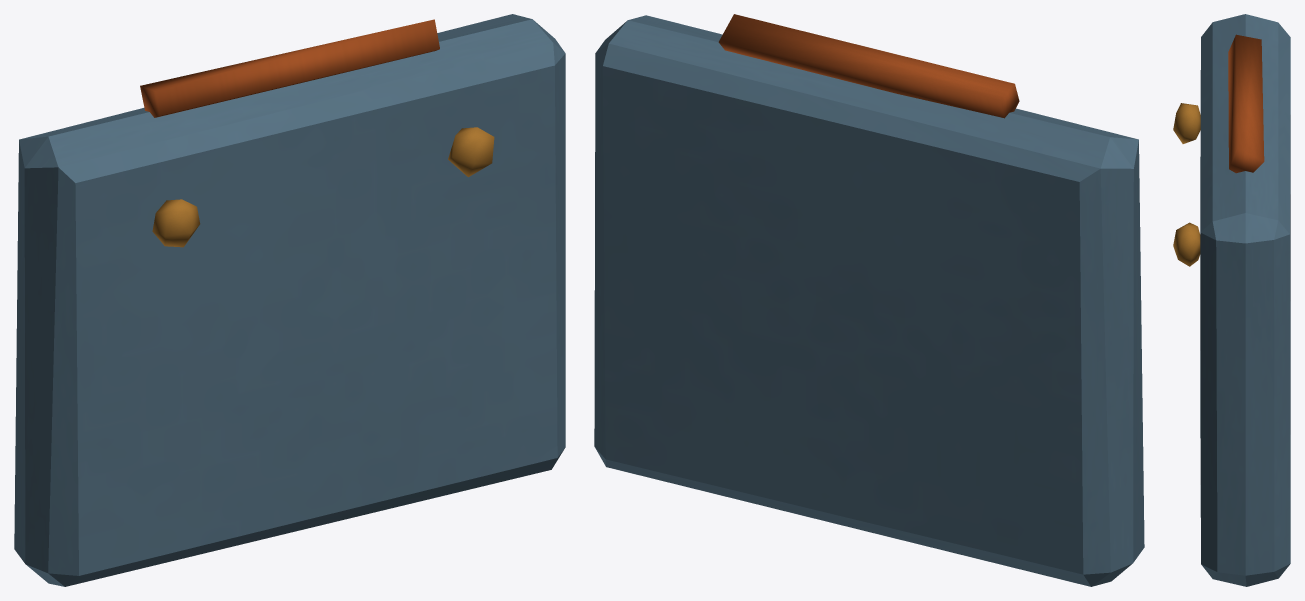
Rendered from SM_iron_shield_fragment_LOD2.fbx.
3 views of the same model, side by side, from view 1: azimuth 30°, elevation 25°; view 2: azimuth 150°, elevation 25°; view 3: azimuth 270°, elevation 25° (orthographic). The views are drawn at different scales.
Visible parts, largest first — view 1: SM_iron_shield_fragment_LOD2; view 2: SM_iron_shield_fragment_LOD2; view 3: SM_iron_shield_fragment_LOD2.
Boxes of the visible parts, x1=… form: SM_iron_shield_fragment_LOD2: x1=14, y1=14, x2=565, y2=586; SM_iron_shield_fragment_LOD2: x1=594, y1=14, x2=1144, y2=586; SM_iron_shield_fragment_LOD2: x1=1173, y1=14, x2=1290, y2=586.
Bounding box in the file's own units: 0.3592 × 0.0821 × 0.3063.
